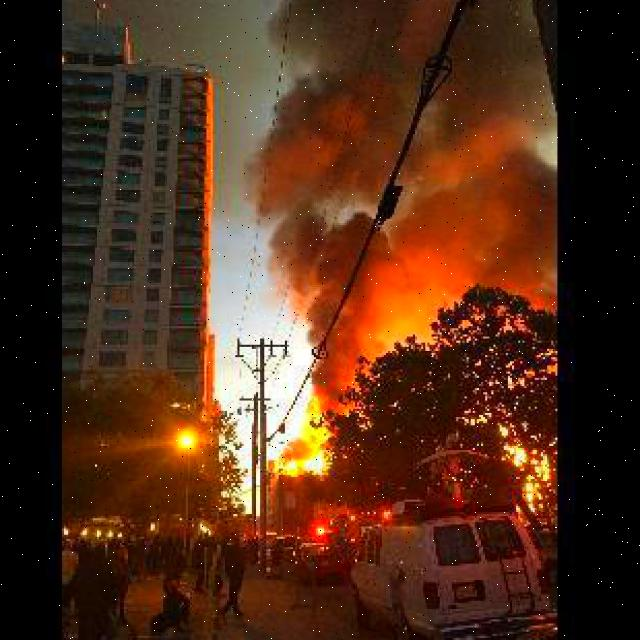fire: (291, 359, 558, 520)
smoke: (244, 0, 558, 388)
